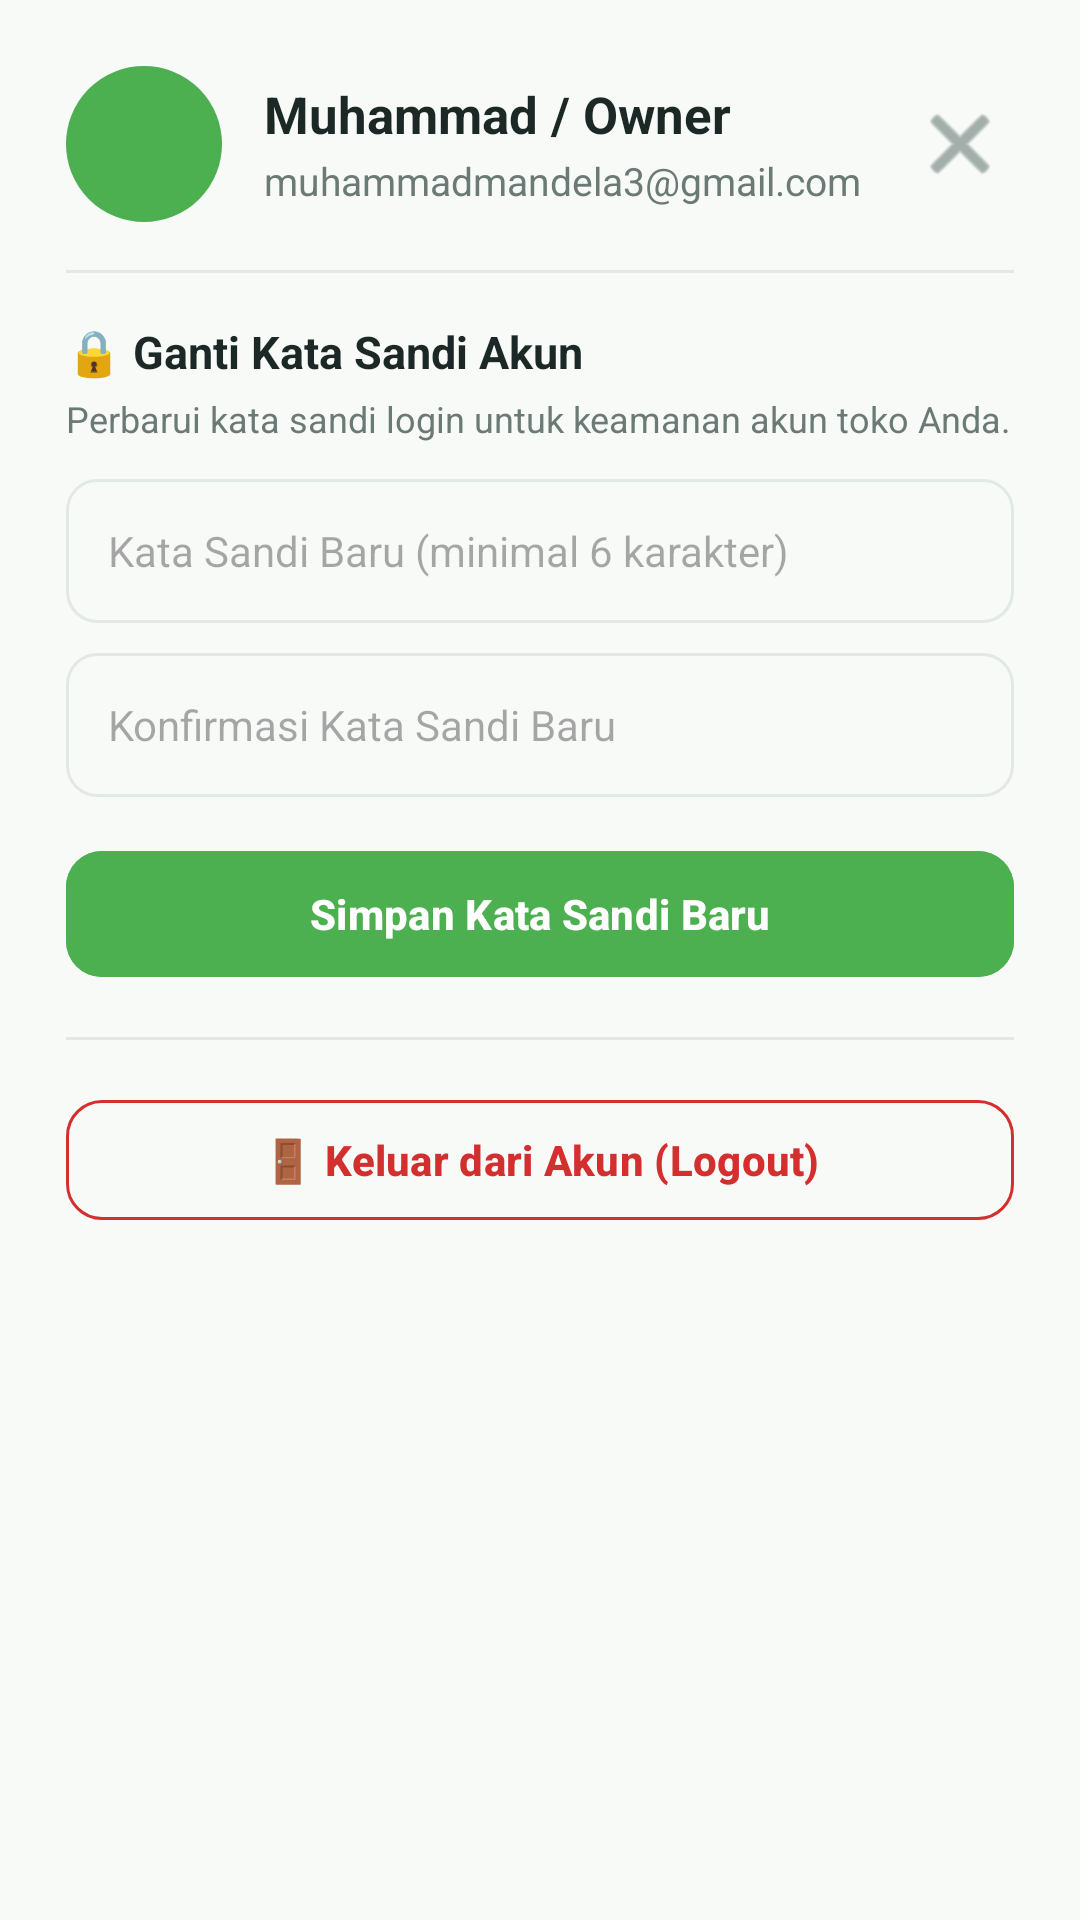

Screen size 1080*1920. Icon name, then its box in pixels as {"x1": x1, "y1": y1, "x2": x2, "y2": y2}:
close clear cancel: {"x1": 930, "y1": 114, "x2": 990, "y2": 174}
